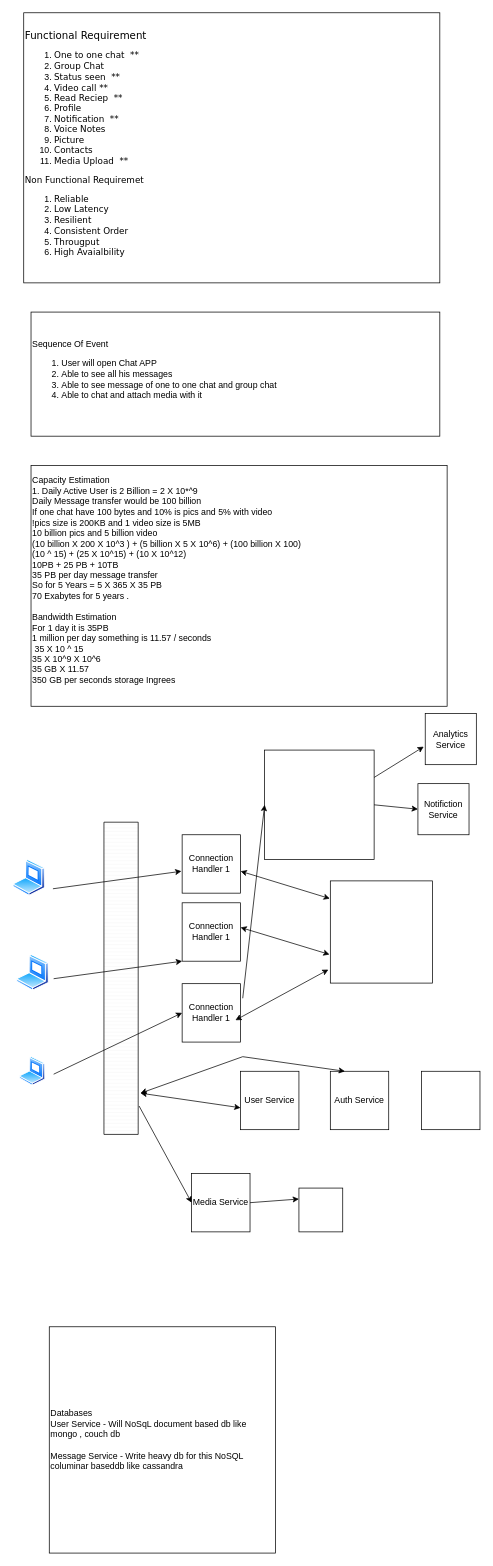
Some shapes in this 493 by 1566 pixel diagram are drawn without their labels. The shapes that lost their labels are listed below. From the top down, each one's centre as x and y in pixels, then its label:
At (x=319, y=804): "Kafka".
At (x=381, y=931): "Connection Manager Cache Storage".
At (x=120, y=977): "Load Balancer".
At (x=450, y=1100): "Last Seen Service".
At (x=320, y=1209): "S3/DFS".
